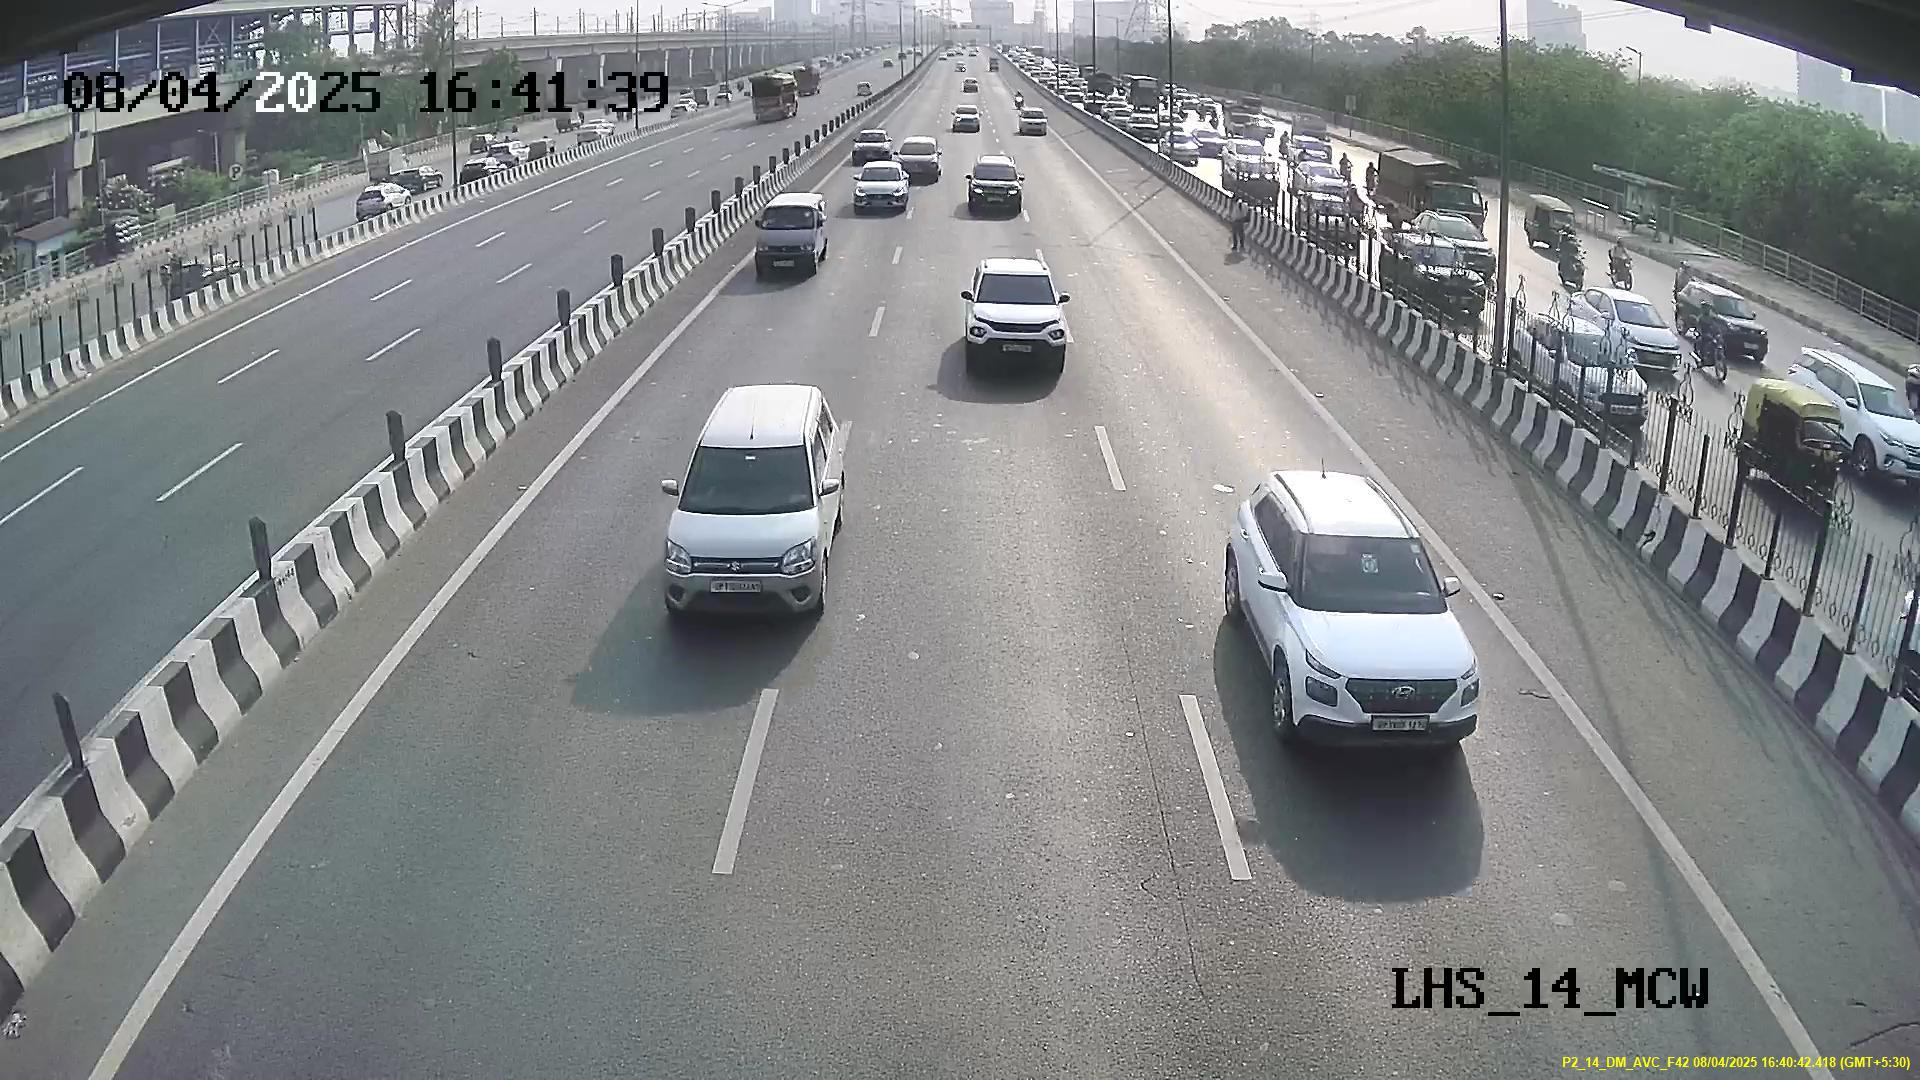car: (1234, 526, 1481, 753), (650, 426, 844, 620), (960, 274, 1069, 372), (748, 195, 827, 284)
